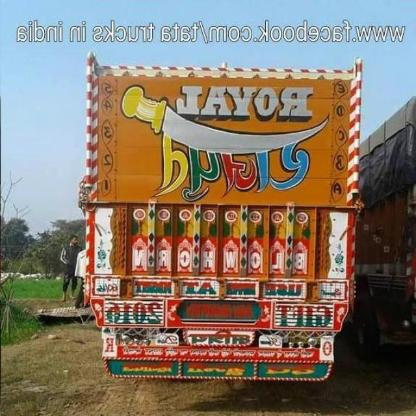truck: (82, 51, 364, 388)
